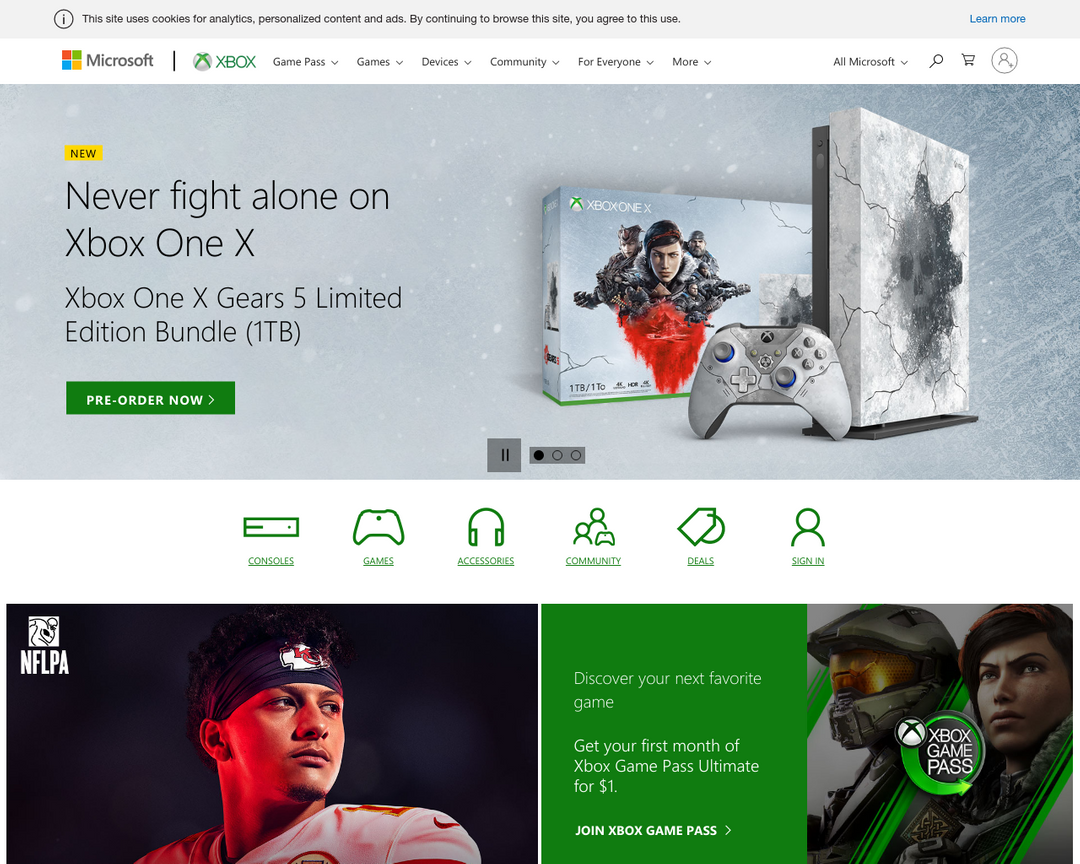Microsoft: (59, 47, 157, 78)
